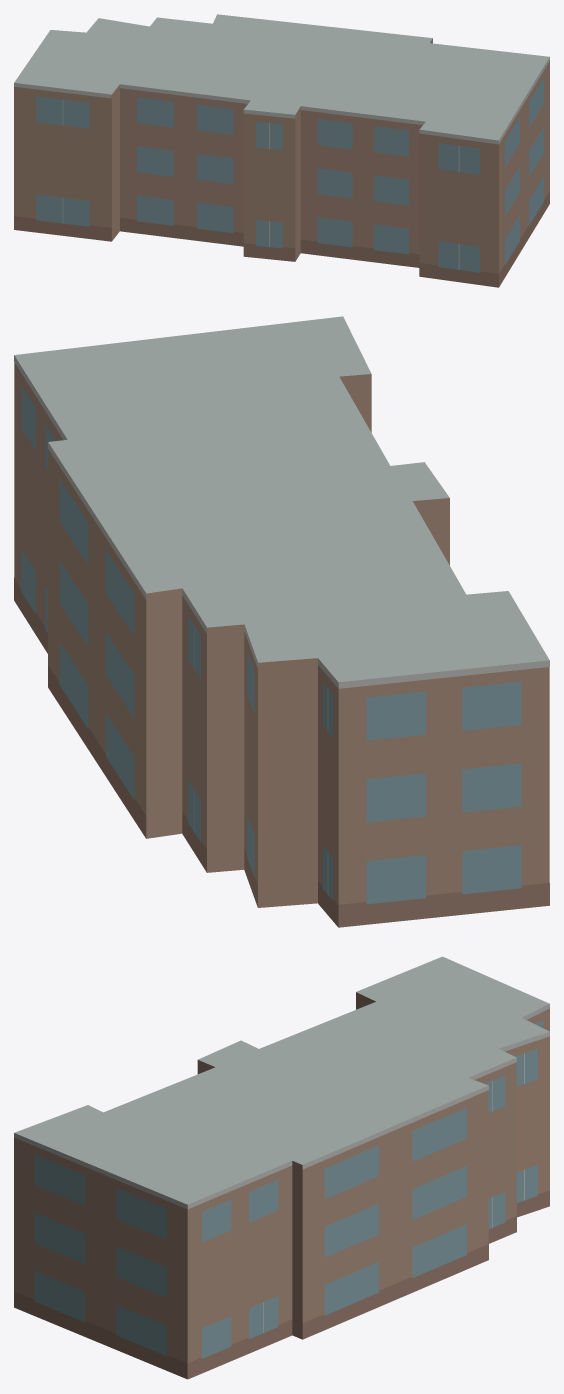
File: survey-upis-32693868.glb
3 renders of one model, top to bottom at view 1: azimuth 30°, elevation 25°; view 2: azimuth 150°, elevation 25°; view 3: azimuth 270°, elevation 25°, orthographic. The views are drawn at different scales.
Visible parts, largest first — view 1: survey-upis-32693868.tmp; view 2: survey-upis-32693868.tmp; view 3: survey-upis-32693868.tmp.
Boxes of the visible parts, <box> form: survey-upis-32693868.tmp: <box>14,14,549,287</box>; survey-upis-32693868.tmp: <box>14,316,549,927</box>; survey-upis-32693868.tmp: <box>14,956,549,1379</box>.
Size of the model in its own units: 27.9 by 9.15 by 25.45.
